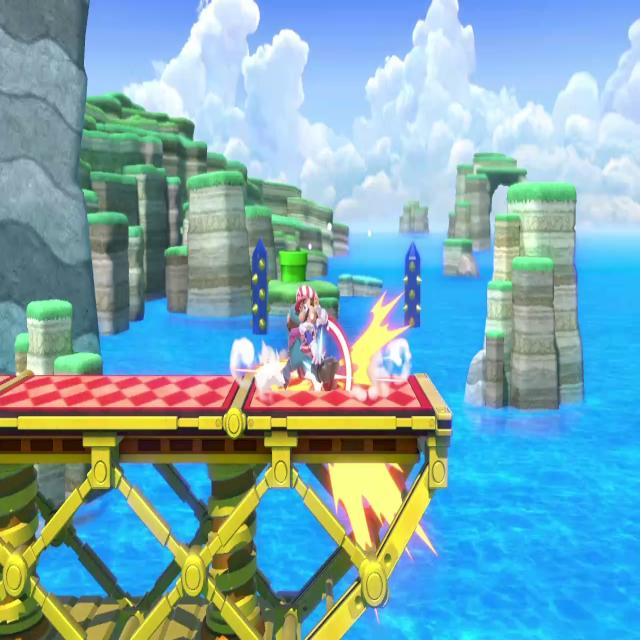Mario: (290, 282, 330, 389)
Mario-FT: (278, 301, 336, 391)
